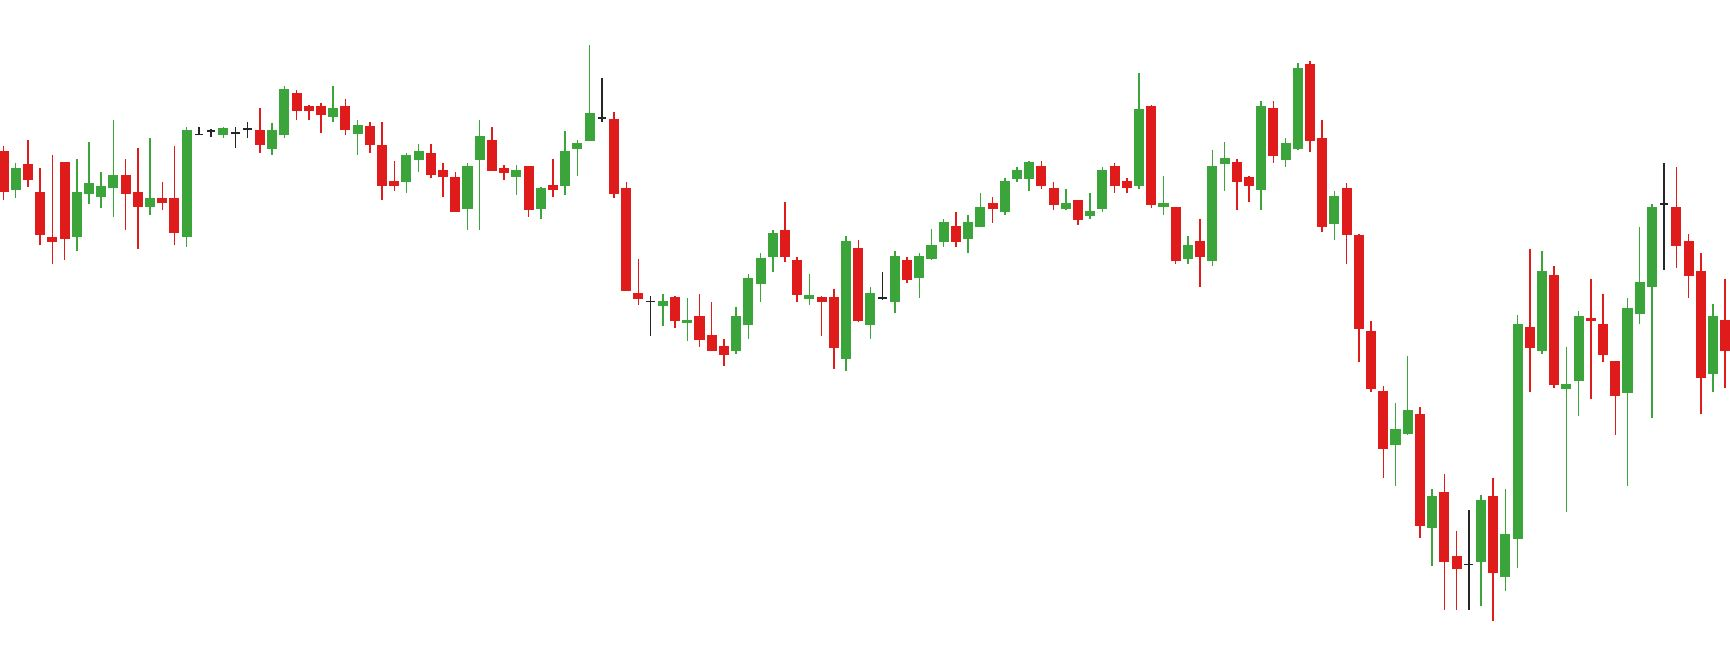buy: (719, 264, 854, 378)
sell: (470, 46, 621, 172), (1253, 62, 1316, 176)
